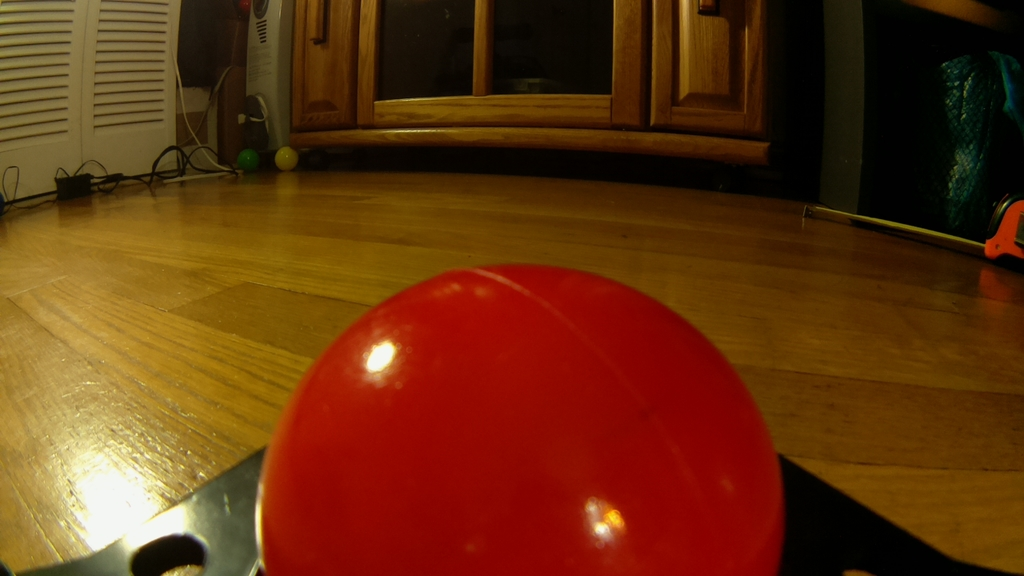ball: (234, 148, 260, 171)
